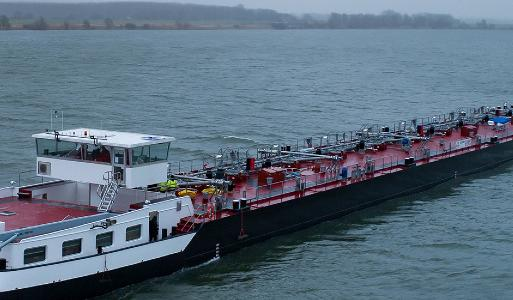Ship: (0, 48, 513, 300)
